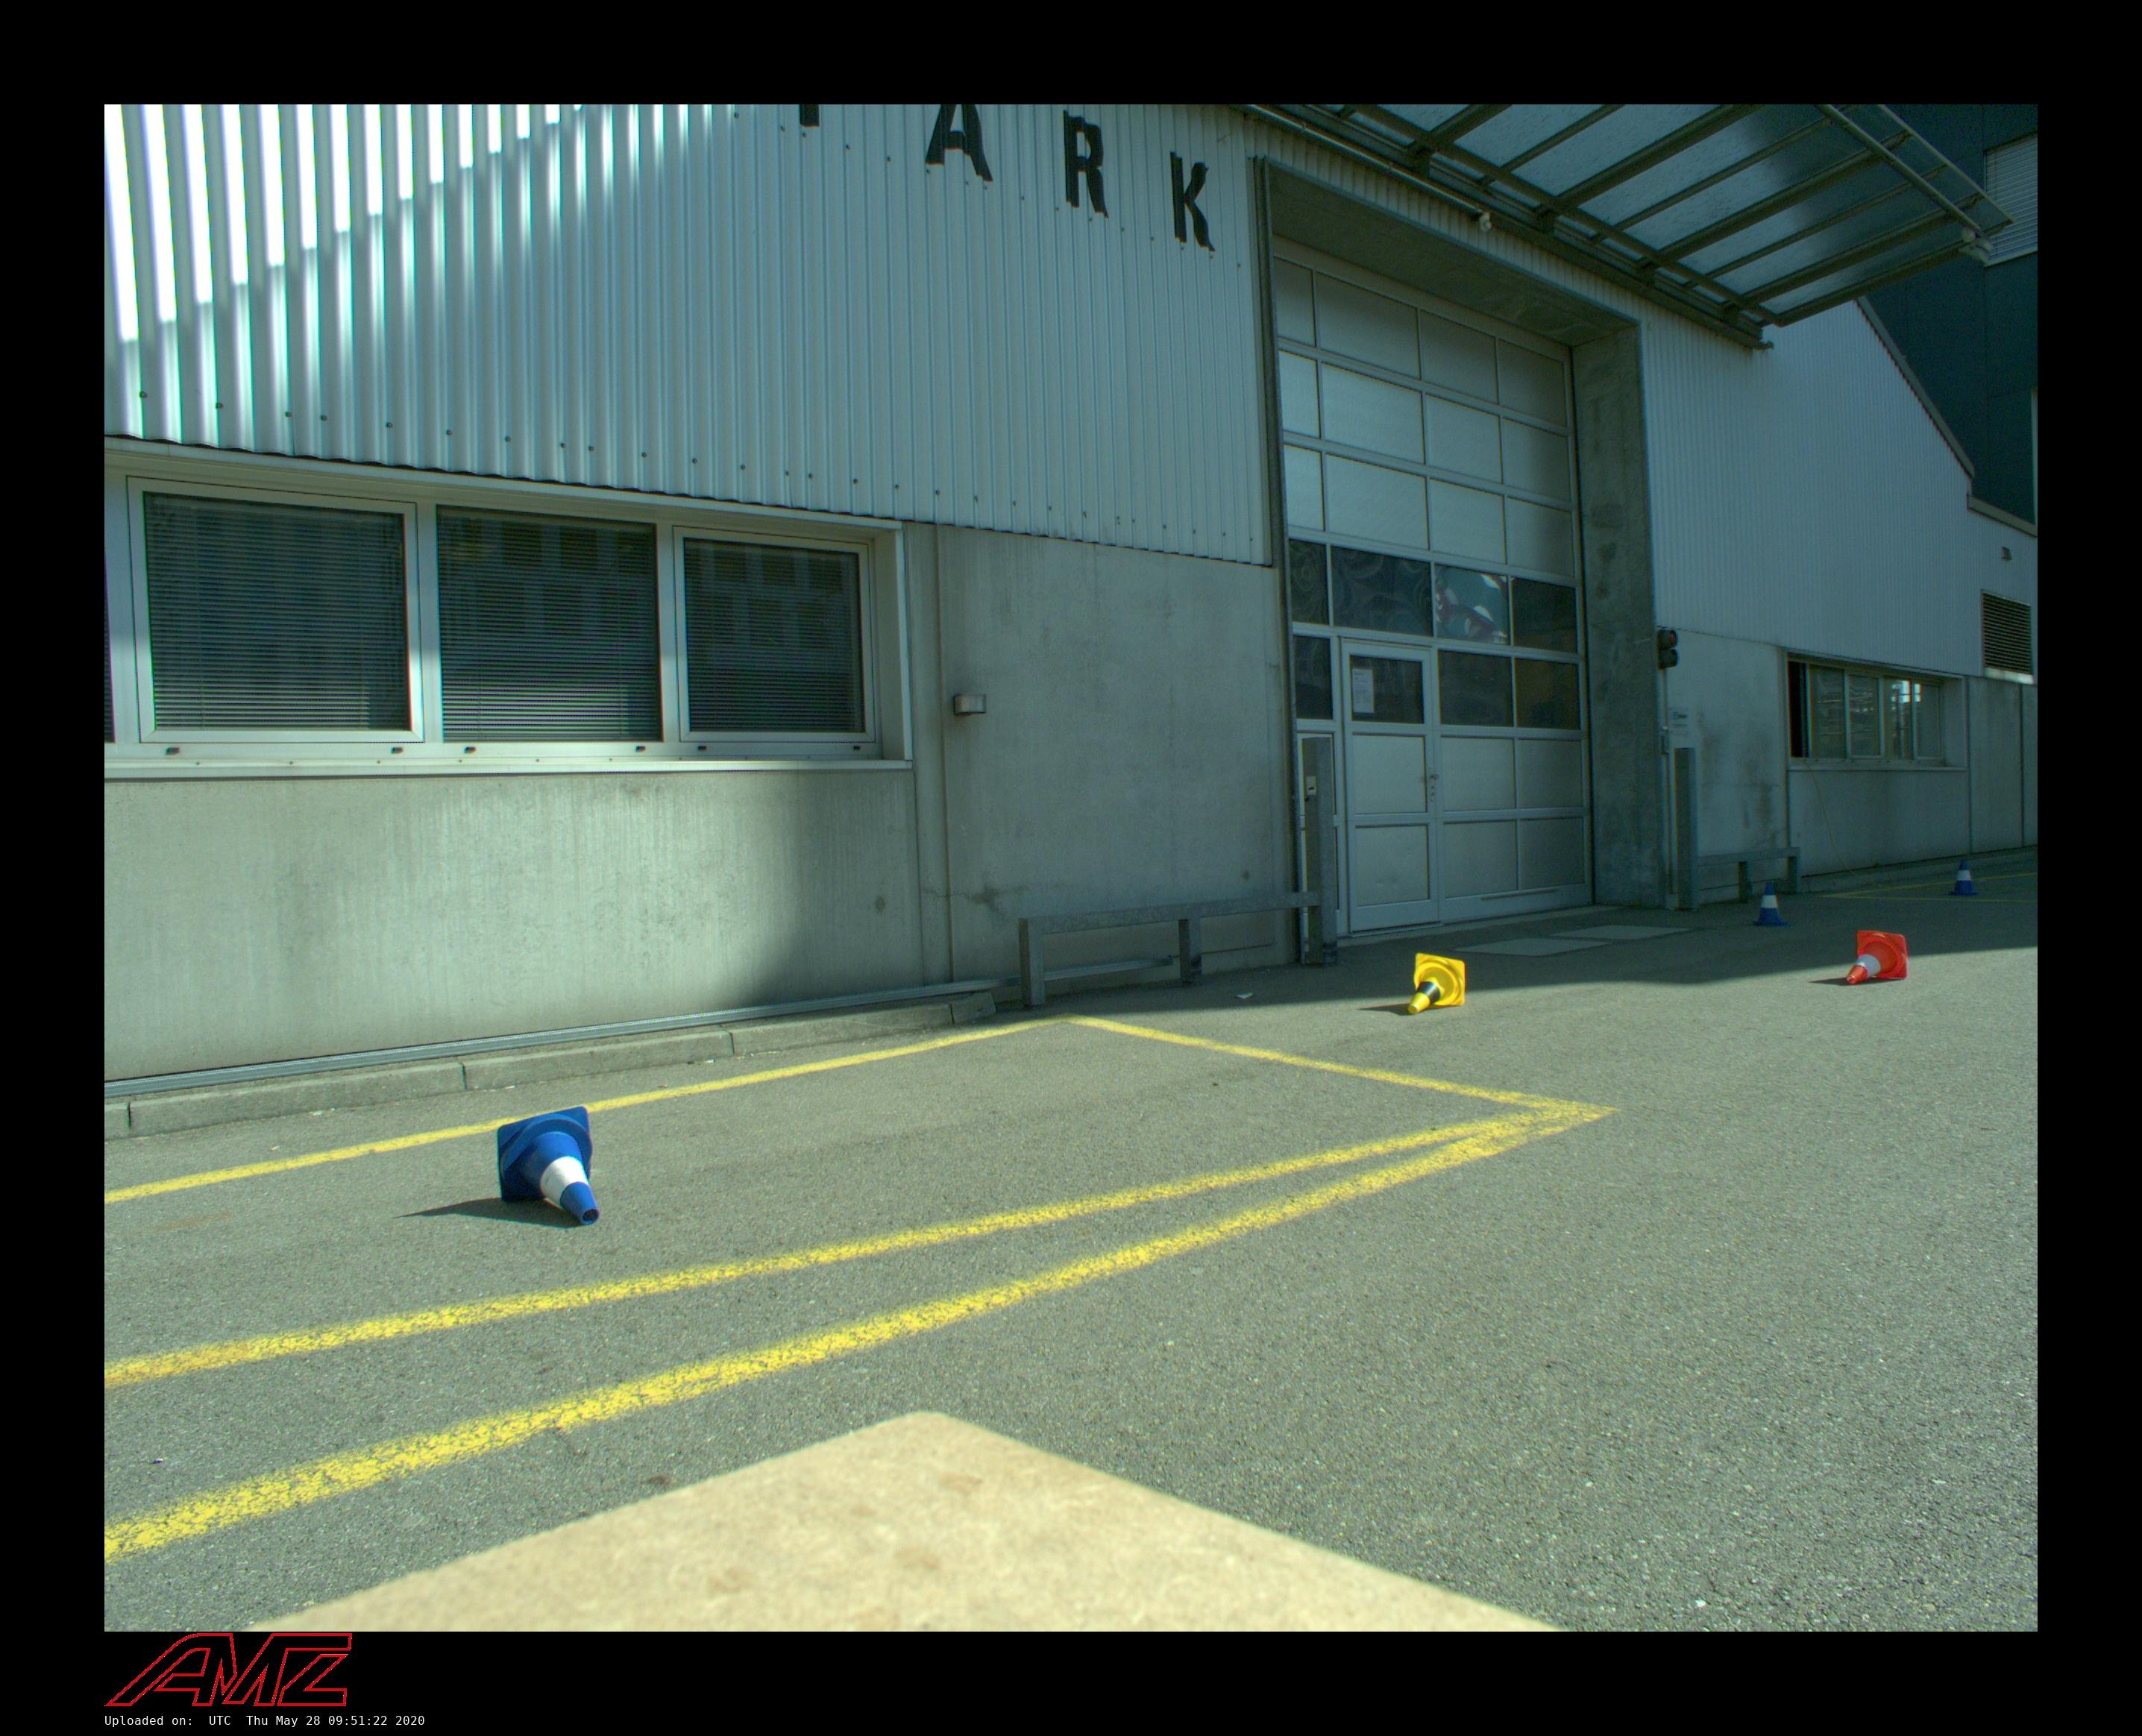blue_cone: (496, 1107, 599, 1226), (1752, 882, 1791, 926), (1949, 859, 1979, 896)
orange_cone: (1846, 930, 1908, 985)
yellow_cone: (1407, 953, 1465, 1015)
